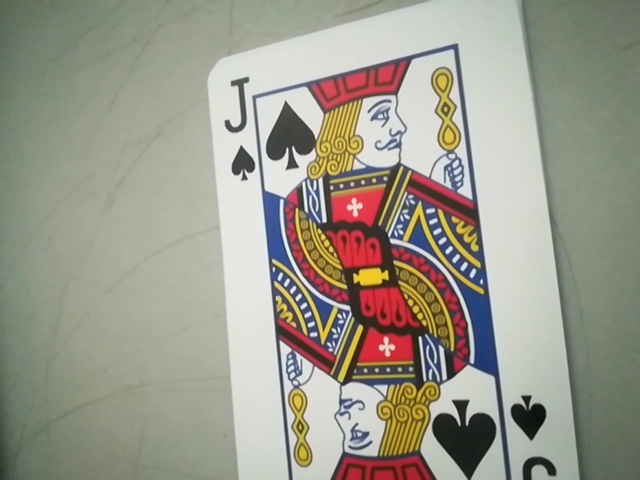ht j: (211, 69, 267, 187)
